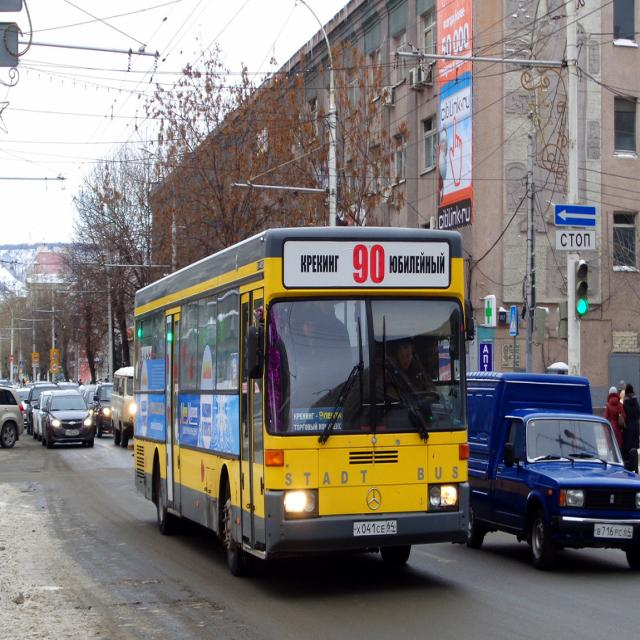number-of-bus: (351, 241, 388, 289)
